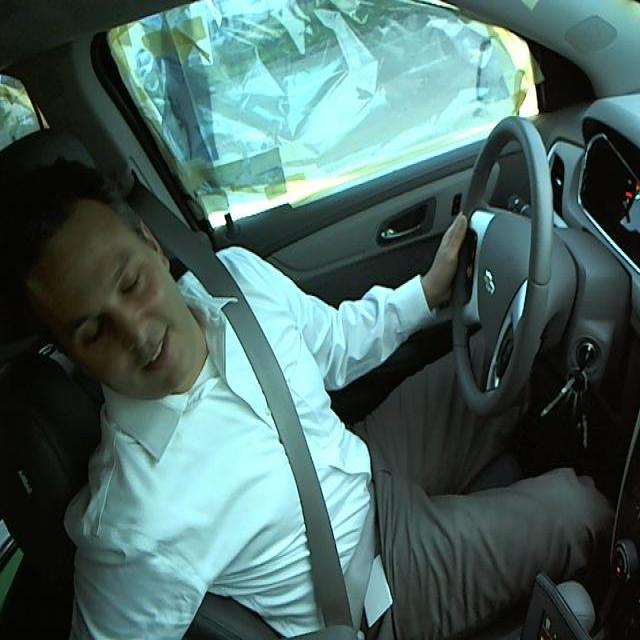seatbelt: (215, 285, 387, 615)
